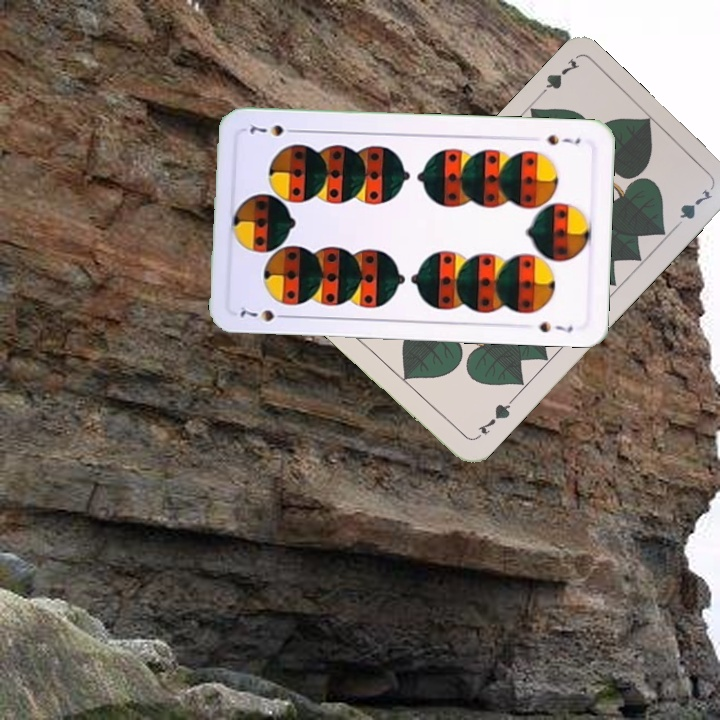G7: (532, 54, 583, 103), (470, 395, 516, 443)
S7: (236, 302, 292, 324), (543, 131, 583, 148)
